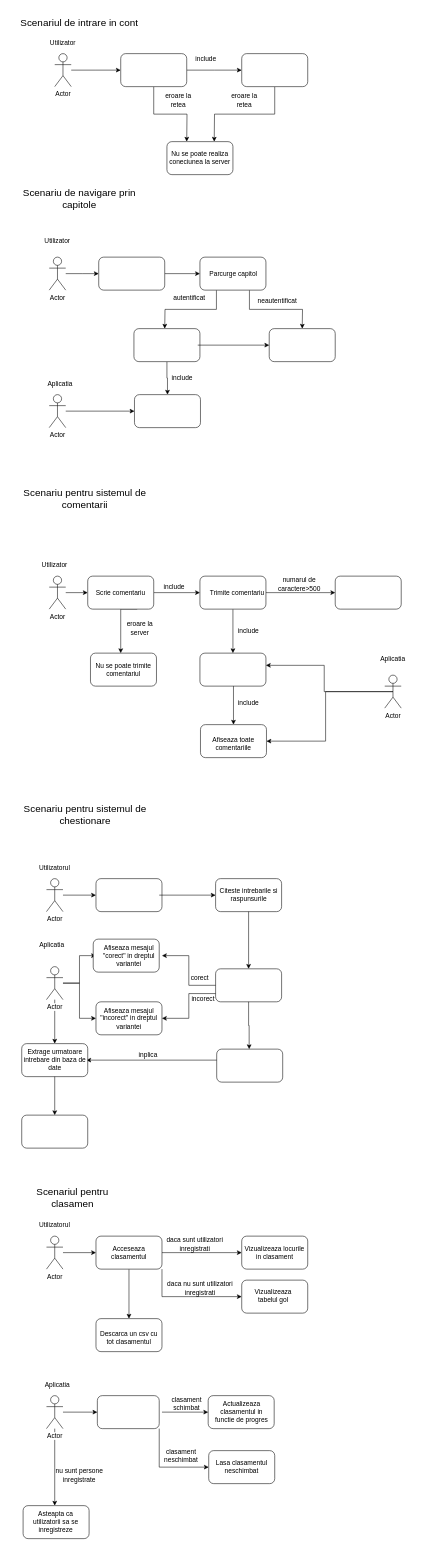
The diagram is 425 pixels wide and 1548 high, and some of its shapes have lost their labels. Here are the shapes that lost their labels. From the top down, the box of each, then its label:
(120, 53, 187, 87): Acceseaza interfata de autentificare
(241, 53, 308, 87): S-a autentificat
(98, 257, 165, 290): Acceseaza capitol
(133, 328, 200, 362): Finalizeaza capitol
(269, 328, 335, 362): Trece la urmatorul capitol
(134, 394, 200, 428): Inregistreaza progres
(335, 576, 401, 609): Mesajul este prea lung
(199, 653, 266, 686): Salveaza in baza de date comentariul
(95, 878, 162, 912): Acceseaza chestionar
(215, 968, 282, 1002): Alege varianta de raspuns
(216, 1049, 283, 1082): Trece la urmatoare intrebare
(21, 1115, 88, 1148): Incarca pe ecran noua intrebare
(97, 1395, 159, 1429): Verifica progresul utilizatorilor
